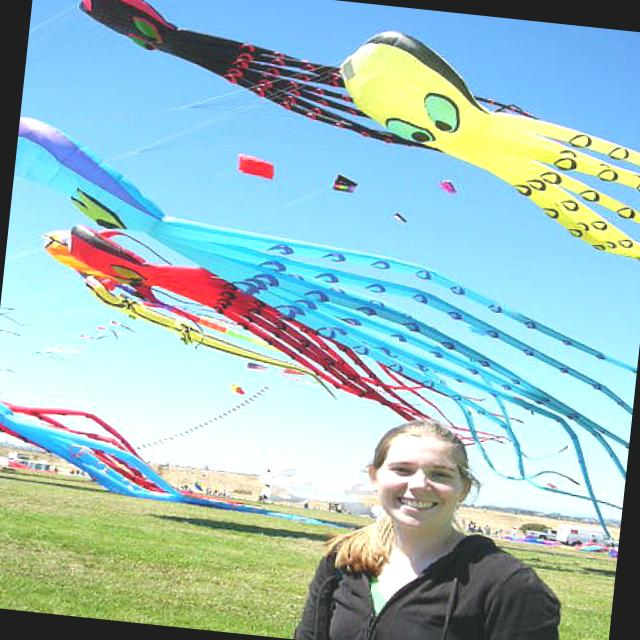Vehicle: (554, 527, 588, 547), (526, 526, 556, 542), (600, 534, 619, 548)
